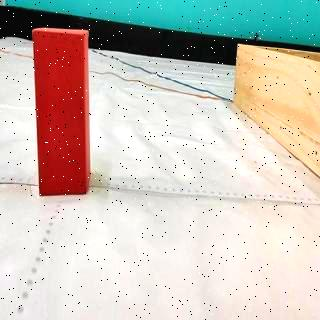redbox: (32, 26, 92, 196)
